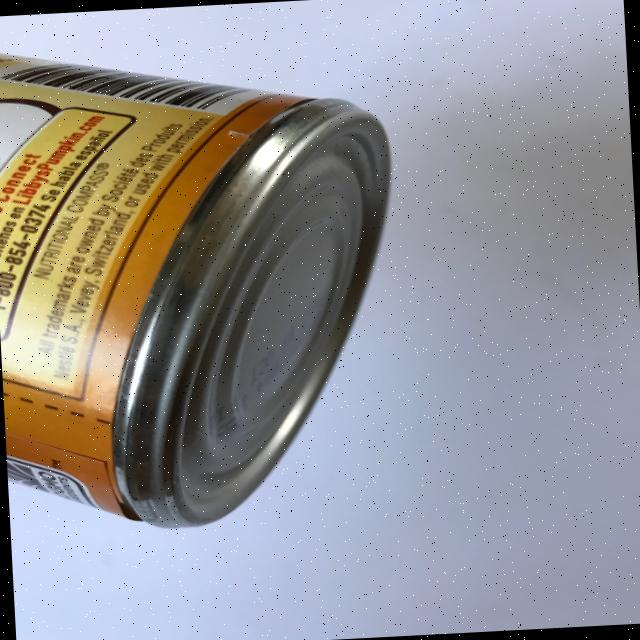metal: (0, 28, 411, 538)
